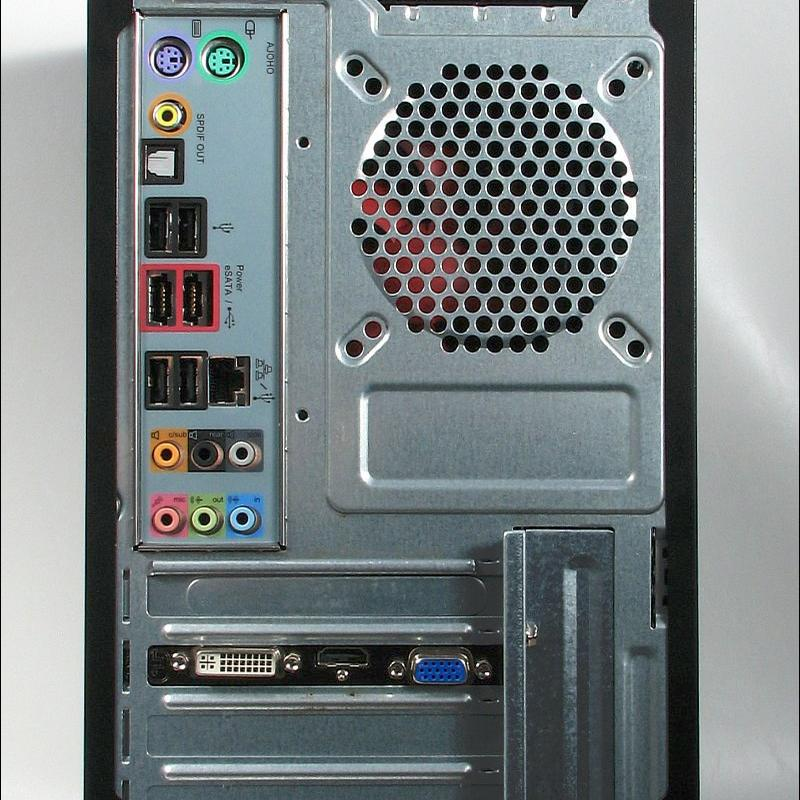AUDIO: (223, 495, 267, 539)
AUDIO_INPUT: (148, 491, 184, 540)
AUDIO_OUTPUT: (188, 494, 222, 540)
ETHERNET: (208, 345, 253, 412)
HDMI: (305, 626, 381, 686)
PARALLEL: (160, 630, 298, 687)
PS: (144, 24, 192, 84)
PS2: (200, 28, 253, 96)
USB: (172, 198, 208, 253), (140, 197, 171, 258)
VGA: (386, 635, 495, 693)
